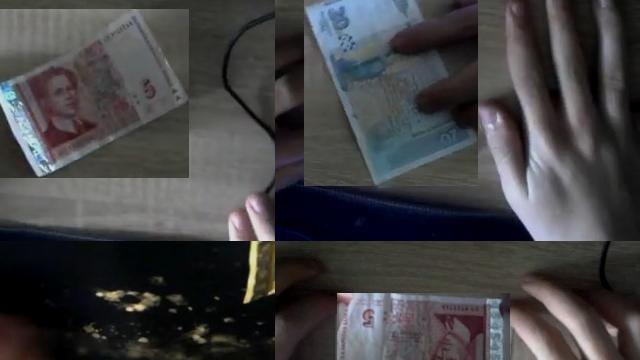20leva: (304, 0, 478, 186)
5leva: (0, 9, 189, 178), (337, 293, 509, 360)
